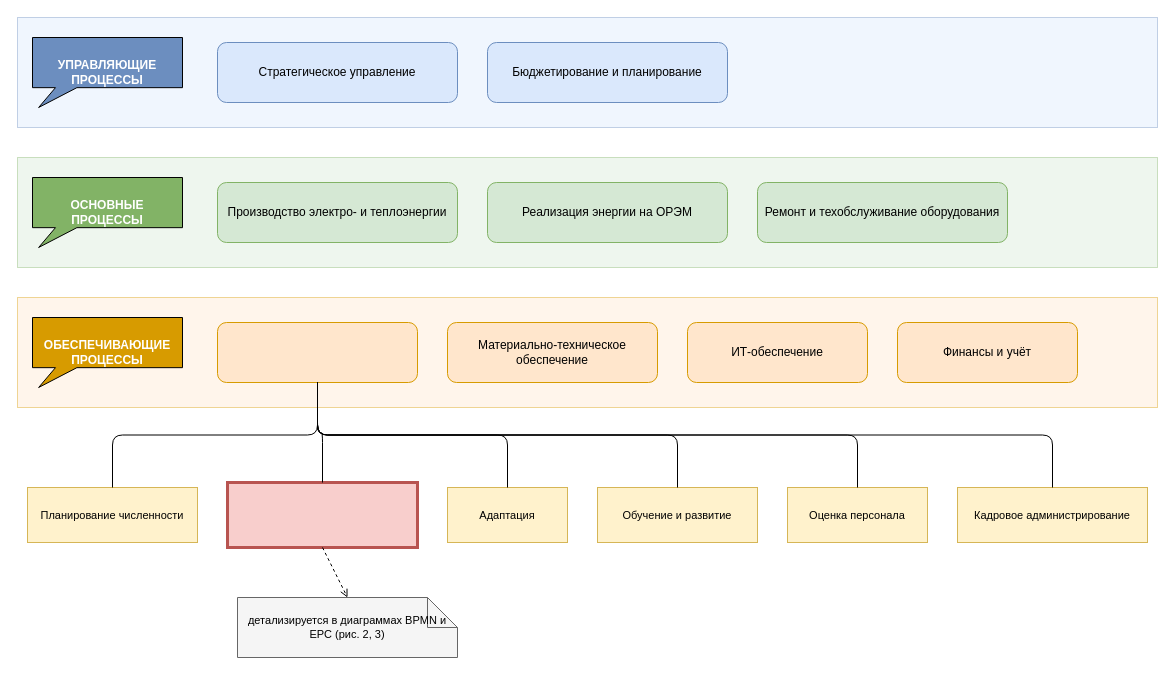
Image size: 1175x675. Some labels were removed from this diagram. Each missing label, with the centre of its shape:
"Подбор и приём персонала" belongs at (322,514).
"Управление персоналом" belongs at (317,352).
